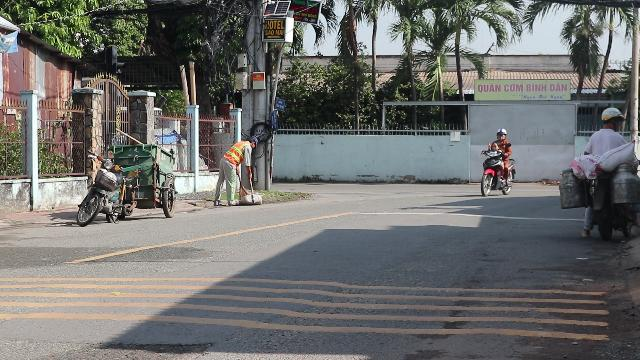helmet: (600, 107, 624, 129)
motorcyclist: (578, 106, 638, 241)
